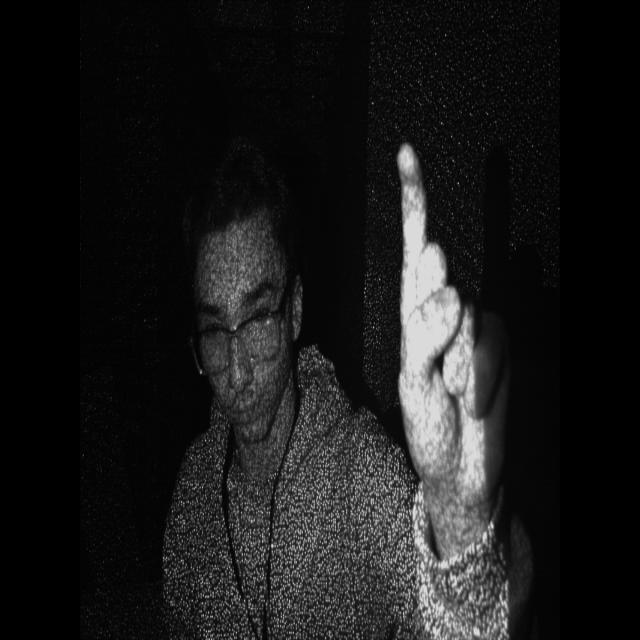X: (382, 109, 527, 515)
